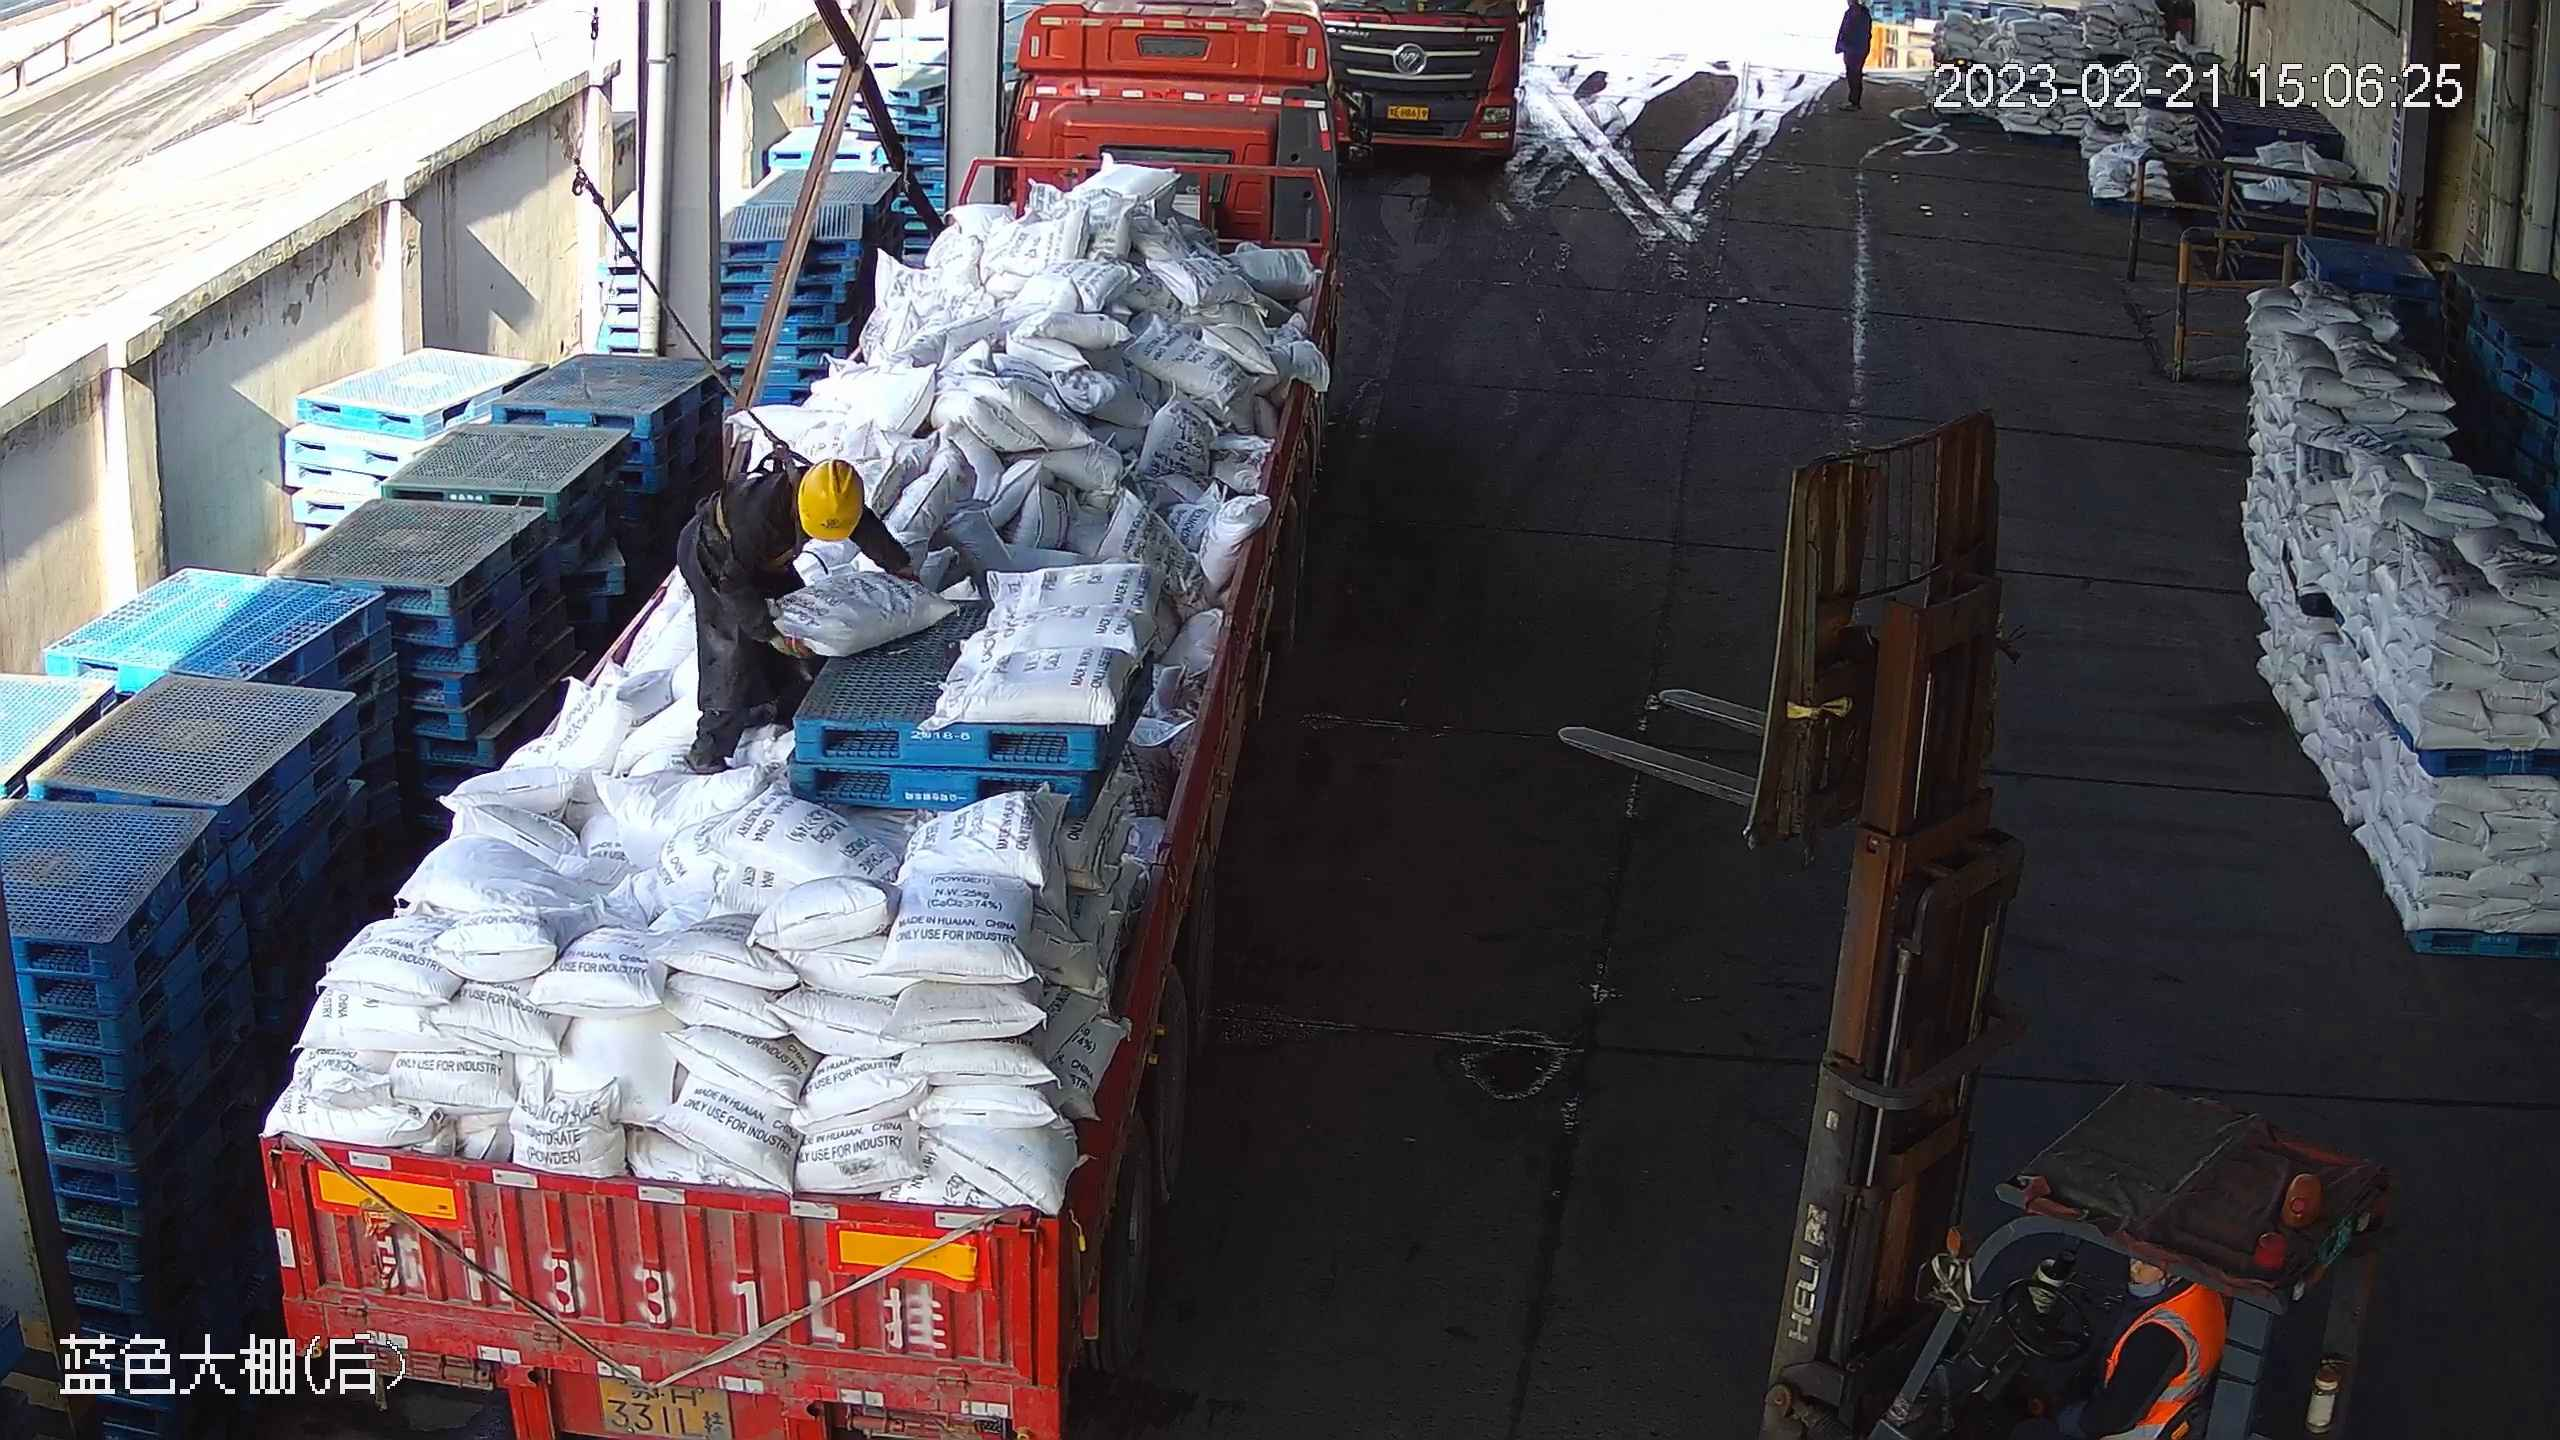belt: (710, 417, 808, 586)
head: (749, 447, 876, 569)
helmet: (798, 459, 862, 539)
people: (669, 447, 913, 783), (1833, 1, 1876, 110)
truck: (256, 1, 1378, 1433), (1317, 1, 1549, 163)
